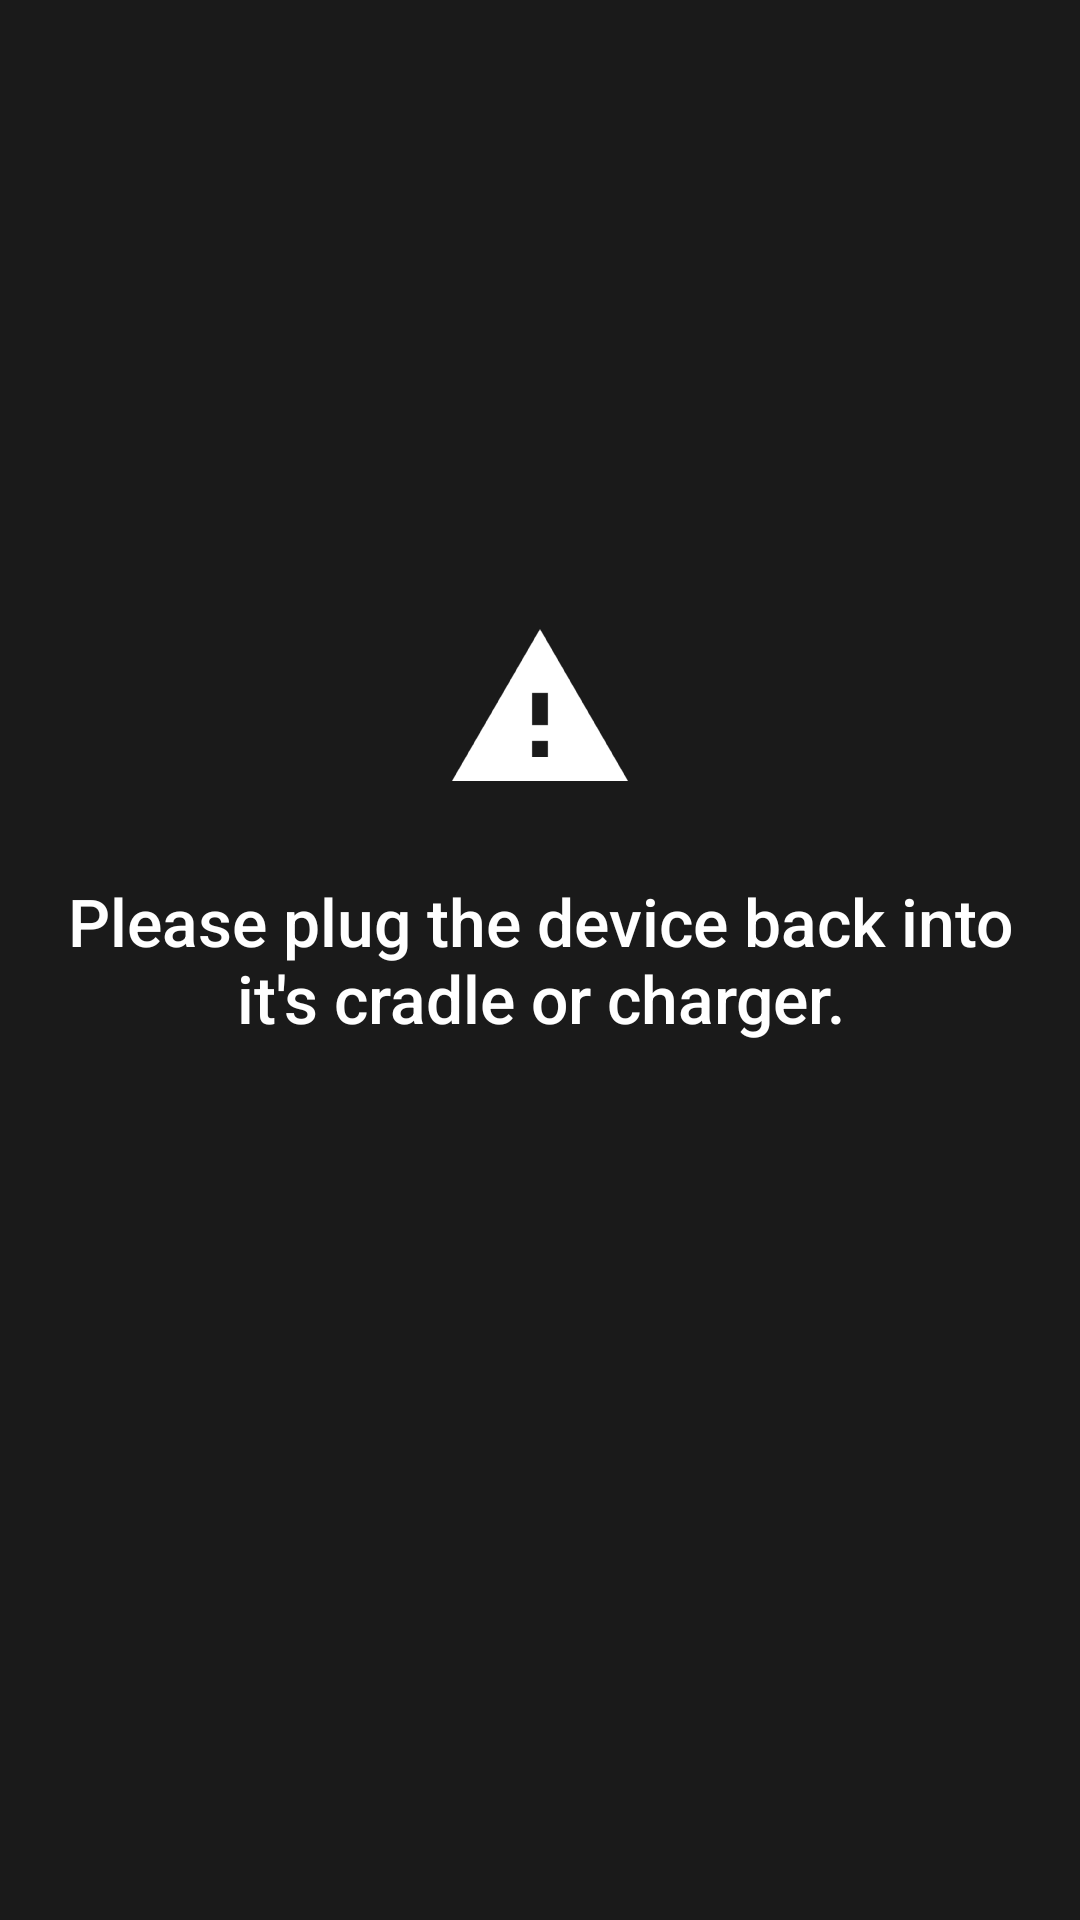

Screen size 1080px x 1920px. Icon name, then its center in pixels as (x,y):
warning: (540,705)
